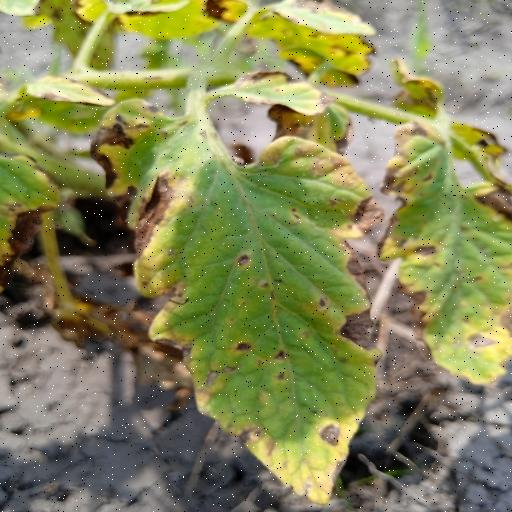Tomato_Brown_Spots: (82, 95, 390, 507)
